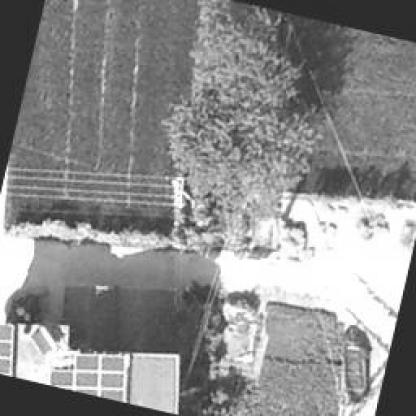solar-pv-panel: (48, 351, 124, 402), (0, 323, 11, 375)
